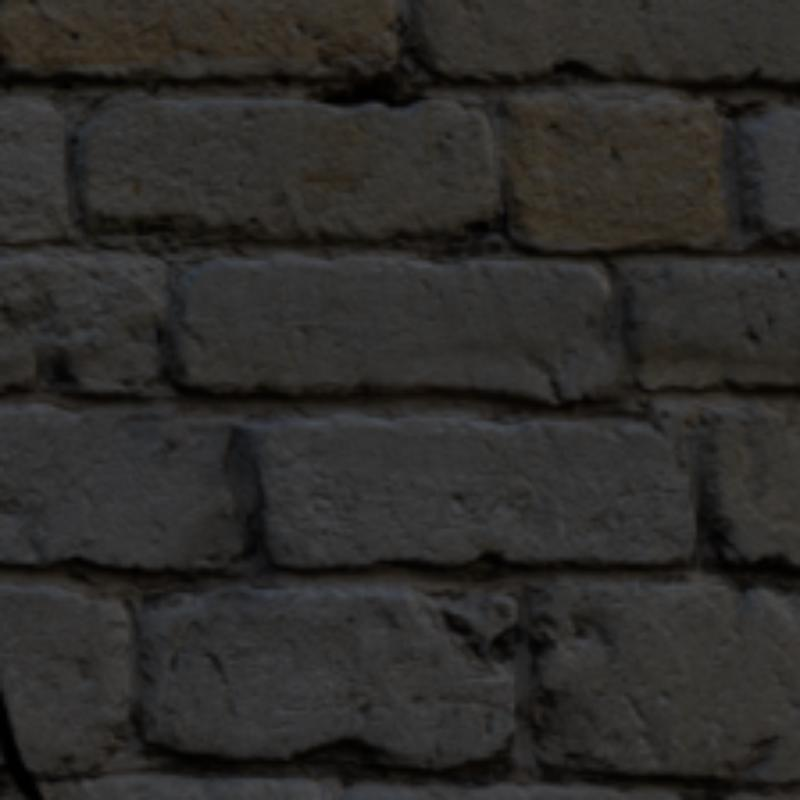pothole: (0, 693, 39, 796)
